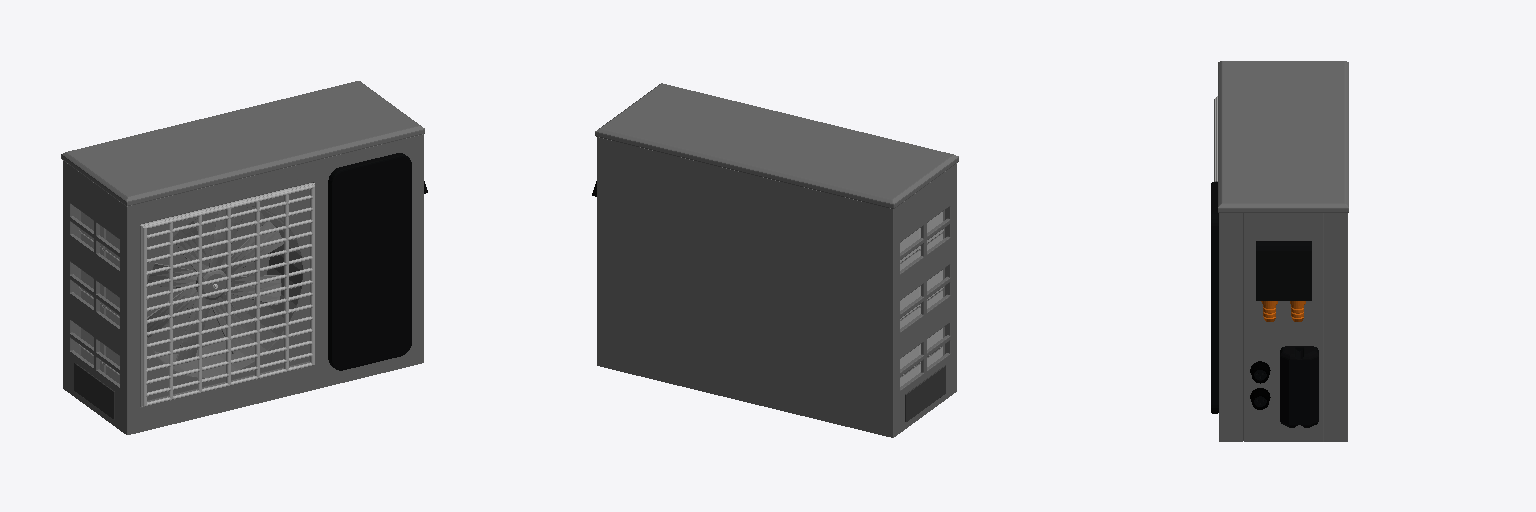
Rendered from air_conditioner3.obj.
The picture shows the model from 3 angles: view 1: azimuth 30°, elevation 25°; view 2: azimuth 150°, elevation 25°; view 3: azimuth 270°, elevation 25°; orthographic projection.
Parts seen in each view (by area): view 1: ac3_hull_Cube.016, ac3_top_Cube.044, ac3_compCover_Cube.043, ac3_wire_Cube.057, ac3_fan_Cube.032, ac3_cooler_Plane.002, ac3_coverL_Cube.041; view 2: ac3_hull_Cube.016, ac3_top_Cube.044, ac3_cooler_Plane.002, ac3_coverL_Cube.041; view 3: ac3_hull_Cube.016, ac3_top_Cube.044, ac3_coverW_Cube.049, ac3_electric_cover_Cube.048, ac3_compCover_Cube.043, ac3_socket_connector_Cube.118, Cube.149_Cube.117.
Boxes of the visible parts, <box> form: ac3_hull_Cube.016: <box>63,134,423,434</box>; ac3_top_Cube.044: <box>61,81,424,206</box>; ac3_compCover_Cube.043: <box>328,153,411,370</box>; ac3_wire_Cube.057: <box>140,183,314,406</box>; ac3_fan_Cube.032: <box>147,206,283,362</box>; ac3_cooler_Plane.002: <box>78,210,119,383</box>; ac3_coverL_Cube.041: <box>74,363,114,419</box>; ac3_hull_Cube.016: <box>597,137,956,437</box>; ac3_top_Cube.044: <box>595,83,958,208</box>; ac3_cooler_Plane.002: <box>900,212,943,386</box>; ac3_coverL_Cube.041: <box>905,365,945,421</box>; ac3_hull_Cube.016: <box>1219,213,1347,441</box>; ac3_top_Cube.044: <box>1218,61,1348,212</box>; ac3_coverW_Cube.049: <box>1256,241,1311,300</box>; ac3_electric_cover_Cube.048: <box>1280,346,1318,427</box>; ac3_compCover_Cube.043: <box>1211,182,1218,413</box>; ac3_socket_connector_Cube.118: <box>1250,361,1270,409</box>; Cube.149_Cube.117: <box>1261,301,1305,321</box>.
Bounding box in the file's own units: 1.3 × 0.916 × 0.4839.